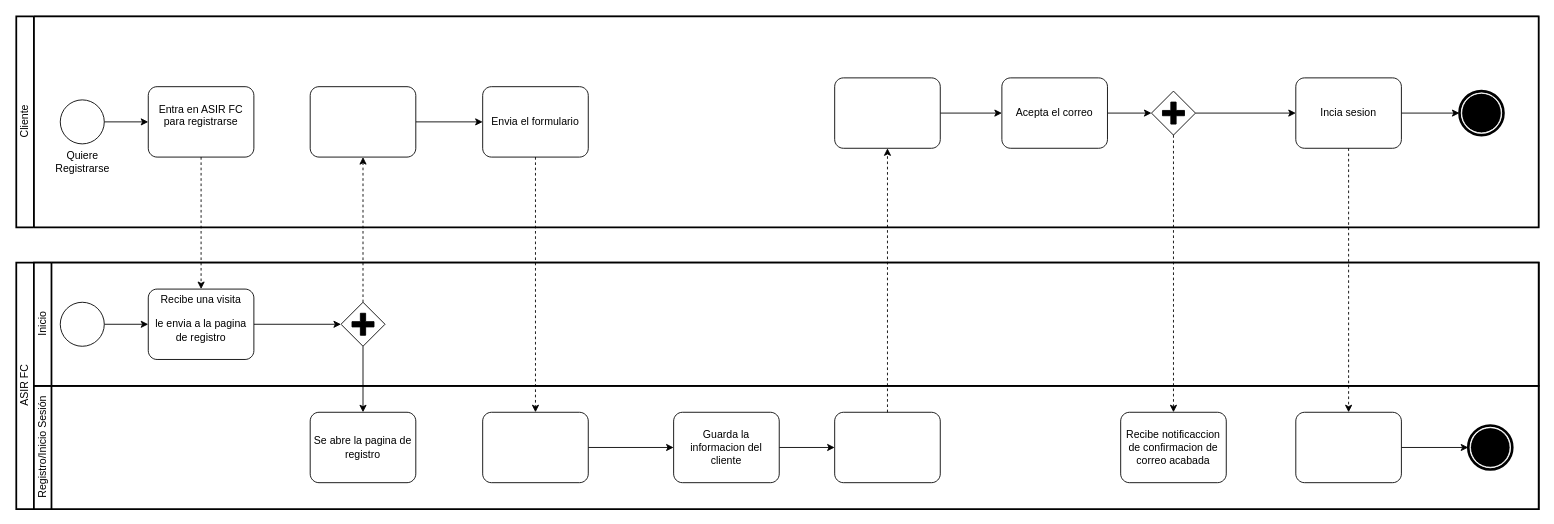
Image size: 1554x524. Some labels were removed from this diagram. The shapes that lost their labels are listed below. From the top down, each one's centre as x and y in pixels, then its label:
At point (362, 121): "Rellena sus datos en la pagina de registro".
At point (887, 112): "Llega un correo de confirmacion".
At point (81, 323): "Espera una visita".
At point (535, 447): "Llega los resultado del formulario".
At point (887, 447): "Le envia un correo para confirmar".
At point (1348, 447): "Confirma el incio de sesion".
